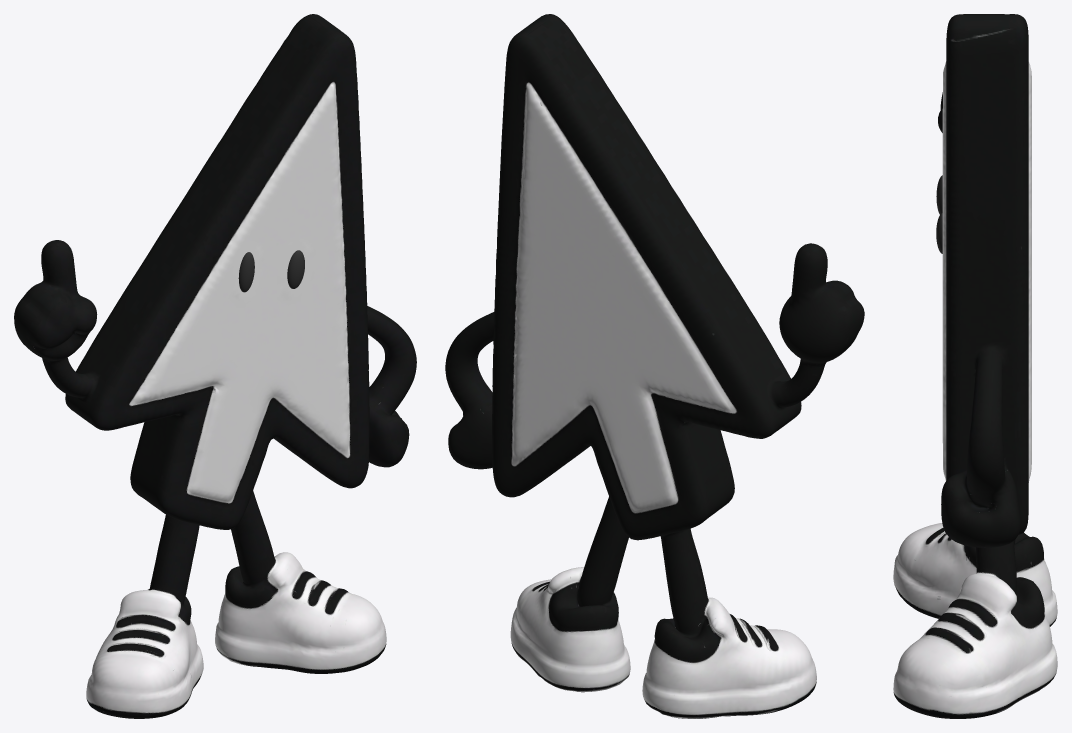
File: mascot.glb
3 views of the same model, side by side, from view 1: azimuth 30°, elevation 25°; view 2: azimuth 150°, elevation 25°; view 3: azimuth 270°, elevation 25° (orthographic). The views are drawn at different scales.
Visible parts, largest first — view 1: Mascot; view 2: Mascot; view 3: Mascot.
Part boxes in pixels (left/top/right/bottom): Mascot: left=14, top=14, right=416, bottom=718; Mascot: left=445, top=14, right=864, bottom=718; Mascot: left=893, top=14, right=1057, bottom=718.
Size of the model in its own units: 0.2047 by 0.3048 by 0.0657.
2 materials, 1 textured.
